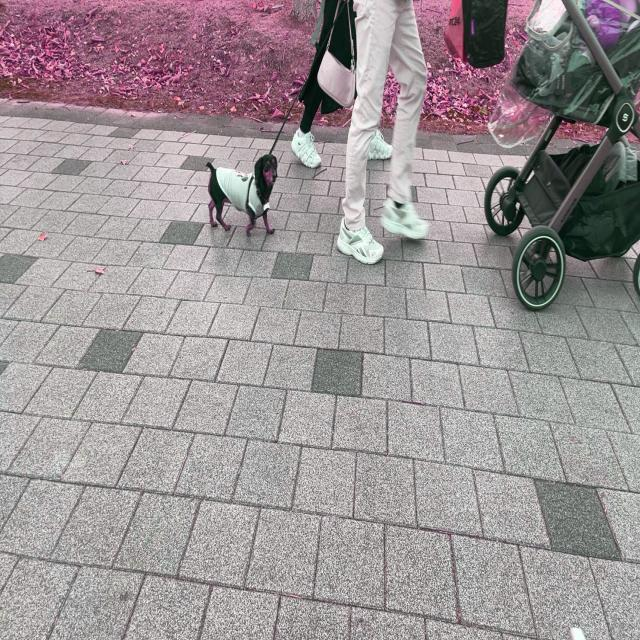Leashed_Dog: (205, 0, 391, 235)
